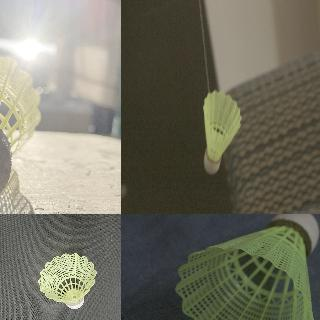shuttlecock: (177, 214, 320, 319), (0, 49, 41, 205), (38, 253, 96, 309), (202, 90, 240, 173)
